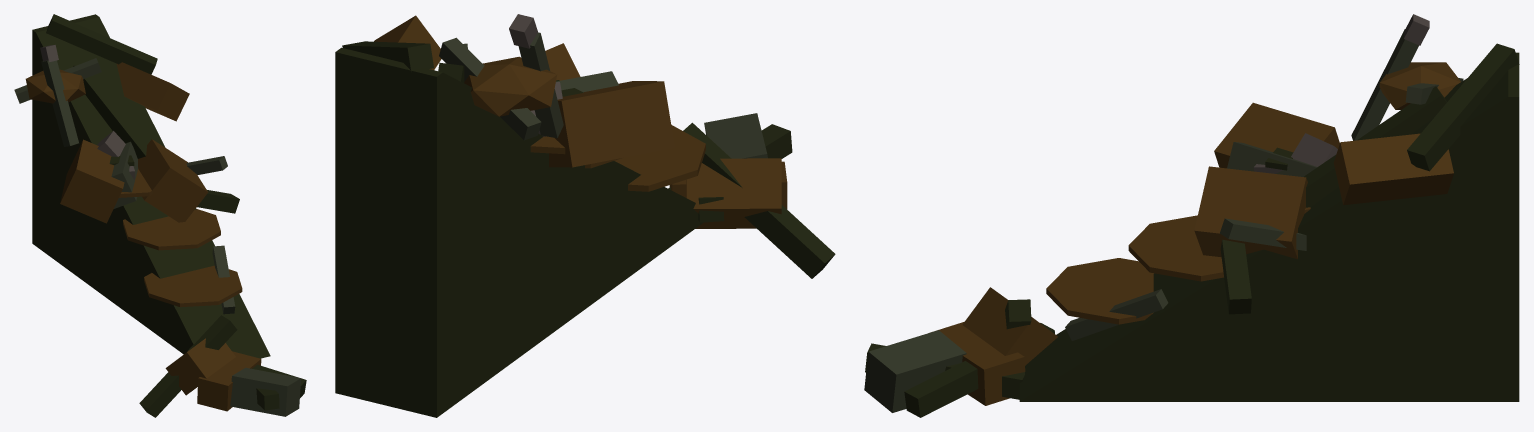
The model's file is SM_PilaZombi_Altura3_s1_LOD0.fbx.
The picture shows the model from 3 angles, left to right: view 1: azimuth 30°, elevation 25°; view 2: azimuth 150°, elevation 25°; view 3: azimuth 270°, elevation 25°; orthographic projection. The views are drawn at different scales.
Parts seen in each view (by area): view 1: SM_pila_zombis_v7_LOD0; view 2: SM_pila_zombis_v7_LOD0; view 3: SM_pila_zombis_v7_LOD0.
Part boxes in pixels (left/top/right/bottom): SM_pila_zombis_v7_LOD0: left=14, top=14, right=306, bottom=417; SM_pila_zombis_v7_LOD0: left=335, top=14, right=835, bottom=417; SM_pila_zombis_v7_LOD0: left=864, top=14, right=1519, bottom=417.
Bounding box in the file's own units: 1.43 × 2 × 3.25.
